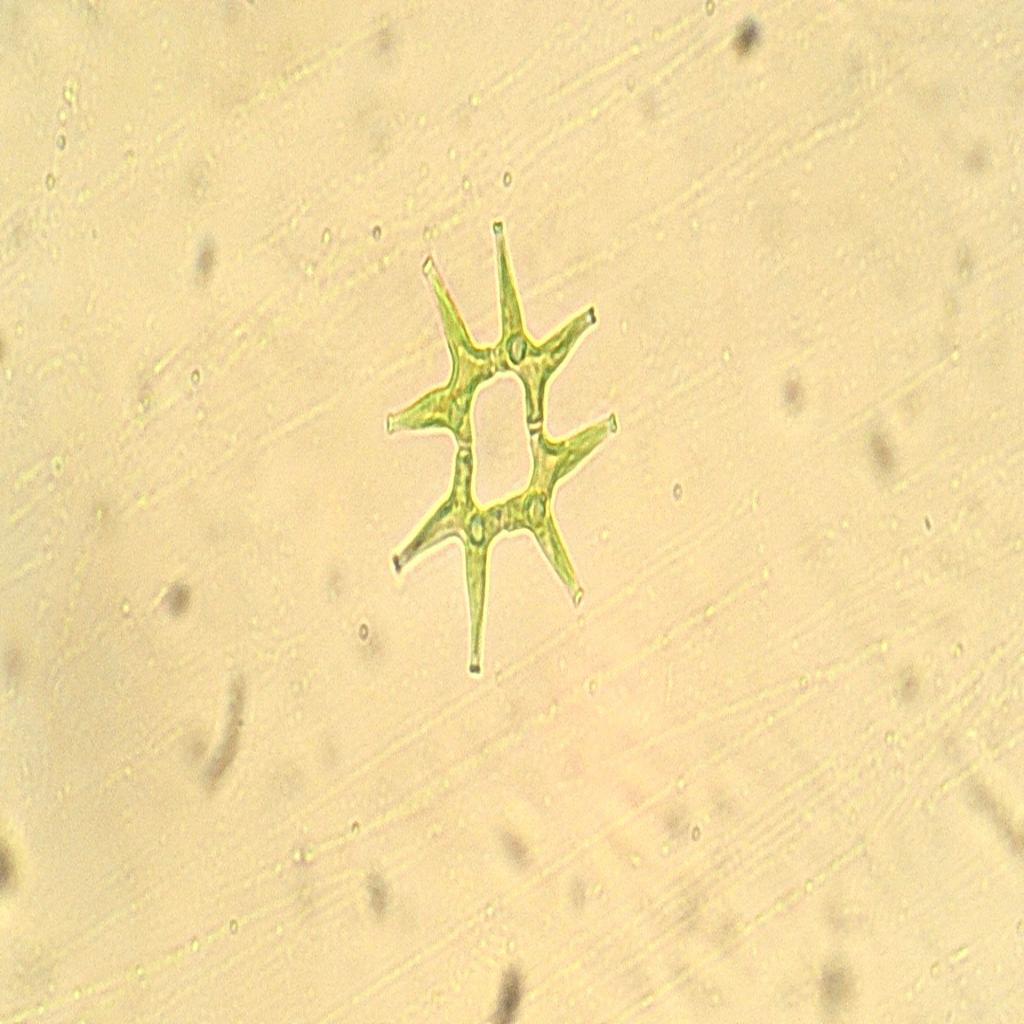Pediastrum_CO: (376, 210, 634, 703)
